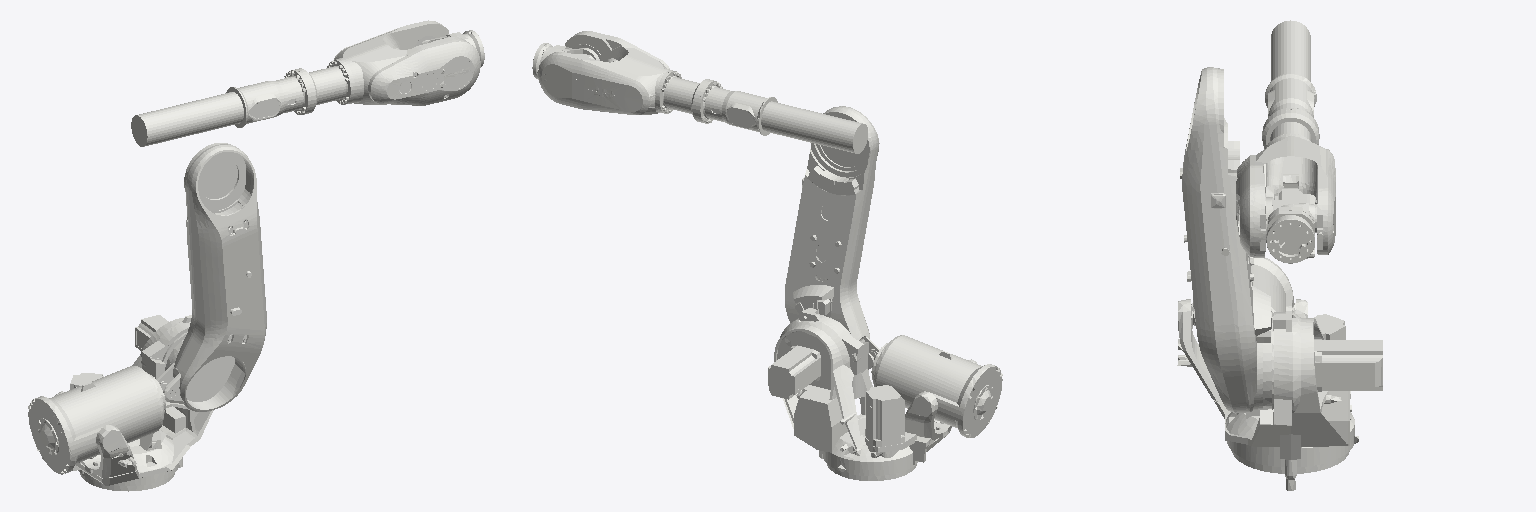
URDF robot description (abb_irb6700_245_300):
<?xml version="1.0" ?>
<!-- =================================================================================== -->
<!-- |    This document was autogenerated by xacro from irb6700_245_300.xacro          | -->
<!-- |    EDITING THIS FILE BY HAND IS NOT RECOMMENDED                                 | -->
<!-- =================================================================================== -->
<robot name="abb_irb6700_245_300">
  <transform tf_rb_ub="0.0 0.0 0.0 0.0 0.0 0.0 1.0" tf_rf_uf="0.0 0.0 0.0 0.0 0.0 0.0 1.0">
  </transform>
  <constraint coeff="0.0 0.0 0.0 1.0 0.0 0.0" lower_bound="0.0" upper_bound="0.0"/>
  <constraint coeff="0.0 1.0 1.0 0.0 1.0 0.0" lower_bound="1.5707963267948966" upper_bound="1.5707963267948966"/>
  <!-- Conversion were obtained from http://www.e-paint.co.uk/Lab_values.asp
       unless otherwise stated. -->
  <!-- link list -->
  <link name="base_link">
    <visual>
      <origin rpy="0 0 0" xyz="0 0 0"/>
      <geometry>
        <mesh filename="package://abb_irb6700_support/meshes/irb6700_245_300/visual/base_link.stl"/>
      </geometry>
      <material name="">
        <color rgba="0.9254902 0.9254902 0.9058824 1"/>
      </material>
    </visual>
    <collision>
      <origin rpy="0 0 0" xyz="0 0 0"/>
      <geometry>
        <mesh filename="package://abb_irb6700_support/meshes/irb6700_245_300/collision/base_link.stl"/>
      </geometry>
      <material name="">
        <color rgba="1 1 0 1"/>
      </material>
    </collision>
  </link>
  <link name="link_1">
    <visual>
      <origin rpy="0 0 0" xyz="0 0 -0.78"/>
      <geometry>
        <mesh filename="package://abb_irb6700_support/meshes/irb6700_245_300/visual/link_1.stl"/>
      </geometry>
      <material name="">
        <color rgba="0.9254902 0.9254902 0.9058824 1"/>
      </material>
    </visual>
    <collision>
      <origin rpy="0 0 0" xyz="0 0 -0.78"/>
      <geometry>
        <mesh filename="package://abb_irb6700_support/meshes/irb6700_245_300/collision/link_1.stl"/>
      </geometry>
      <material name="">
        <color rgba="1 1 0 1"/>
      </material>
    </collision>
  </link>
  <link name="link_2">
    <visual>
      <origin rpy="0 0 0" xyz="-0.35 0 -0.78"/>
      <geometry>
        <mesh filename="package://abb_irb6700_support/meshes/irb6700_245_300/visual/link_2.stl"/>
      </geometry>
      <material name="">
        <color rgba="0.9254902 0.9254902 0.9058824 1"/>
      </material>
    </visual>
    <collision>
      <origin rpy="0 0 0" xyz="-0.35 0 -0.78"/>
      <geometry>
        <mesh filename="package://abb_irb6700_support/meshes/irb6700_245_300/collision/link_2.stl"/>
      </geometry>
      <material name="">
        <color rgba="1 1 0 1"/>
      </material>
    </collision>
  </link>
  <link name="link_3">
    <visual>
      <origin rpy="0 0 0" xyz="-0.35 0 -1.925"/>
      <geometry>
        <mesh filename="package://abb_irb6700_support/meshes/irb6700_245_300/visual/link_3.stl"/>
      </geometry>
      <material name="">
        <color rgba="0.9254902 0.9254902 0.9058824 1"/>
      </material>
    </visual>
    <collision>
      <origin rpy="0 0 0" xyz="-0.35 0 -1.925"/>
      <geometry>
        <mesh filename="package://abb_irb6700_support/meshes/irb6700_245_300/collision/link_3.stl"/>
      </geometry>
      <material name="">
        <color rgba="1 1 0 1"/>
      </material>
    </collision>
  </link>
  <link name="link_4">
    <visual>
      <origin rpy="0 0 0" xyz="-0.35 0 -2.125"/>
      <geometry>
        <mesh filename="package://abb_irb6700_support/meshes/irb6700_245_300/visual/link_4.stl"/>
      </geometry>
      <material name="">
        <color rgba="0.9254902 0.9254902 0.9058824 1"/>
      </material>
    </visual>
    <collision>
      <origin rpy="0 0 0" xyz="-0.35 0 -2.125"/>
      <geometry>
        <mesh filename="package://abb_irb6700_support/meshes/irb6700_245_300/collision/link_4.stl"/>
      </geometry>
      <material name="">
        <color rgba="1 1 0 1"/>
      </material>
    </collision>
  </link>
  <link name="link_5">
    <visual>
      <origin rpy="0 0 0" xyz="-1.8125 0 -2.125"/>
      <geometry>
        <mesh filename="package://abb_irb6700_support/meshes/irb6700_245_300/visual/link_5.stl"/>
      </geometry>
      <material name="">
        <color rgba="0.9254902 0.9254902 0.9058824 1"/>
      </material>
    </visual>
    <collision>
      <origin rpy="0 0 0" xyz="-1.8125 0 -2.125"/>
      <geometry>
        <mesh filename="package://abb_irb6700_support/meshes/irb6700_245_300/collision/link_5.stl"/>
      </geometry>
      <material name="">
        <color rgba="1 1 0 1"/>
      </material>
    </collision>
  </link>
  <link name="link_6">
    <visual>
      <origin rpy="3.141592653589793 -1.5707963267948966 0" xyz="-2.125 0 -2.0325"/>
      <geometry>
        <mesh filename="package://abb_irb6700_support/meshes/irb6700_245_300/visual/link_6.stl"/>
      </geometry>
      <material name="">
        <color rgba="0.9254902 0.9254902 0.9058824 1"/>
      </material>
    </visual>
    <collision>
      <origin rpy="3.141592653589793 -1.5707963267948966 0" xyz="-2.125 0 -2.0325"/>
      <geometry>
        <mesh filename="package://abb_irb6700_support/meshes/irb6700_245_300/collision/link_6.stl"/>
      </geometry>
      <material name="">
        <color rgba="1 1 0 1"/>
      </material>
    </collision>
  </link>
  <joint name="joint1" type="revolute">
    <origin rpy="0 0 0" xyz="0 0 0.78"/>
    <parent link="base_link"/>
    <child link="link_1"/>
    <axis xyz="0 0 1"/>
    <limit effort="0" lower="-2.9670597283903604" upper="2.9670597283903604" velocity="1.7453292519943295"/>
  </joint>
  <joint name="joint2" type="revolute">
    <origin rpy="0 0 0" xyz="0.35 0 0"/>
    <parent link="link_1"/>
    <child link="link_2"/>
    <axis xyz="0 1 0"/>
    <limit effort="0" lower="-1.1344640137963142" upper="1.4835298641951802" velocity="1.53588974175501"/>
  </joint>
  <joint name="joint3" type="revolute">
    <origin rpy="0 0 0" xyz="0 0 1.145"/>
    <parent link="link_2"/>
    <child link="link_3"/>
    <axis xyz="0 1 0"/>
    <limit effort="0" lower="-3.141592653589793" upper="1.2042771838760873" velocity="1.5707963267948966"/>
  </joint>
  <joint name="joint4" type="revolute">
    <origin rpy="0 0 0" xyz="0 0 0.2"/>
    <parent link="link_3"/>
    <child link="link_4"/>
    <axis xyz="1 0 0"/>
    <limit effort="0" lower="-5.235987755982989" upper="5.235987755982989" velocity="2.443460952792061"/>
  </joint>
  <joint name="joint5" type="revolute">
    <origin rpy="0 0 0" xyz="1.4625 0 0"/>
    <parent link="link_4"/>
    <child link="link_5"/>
    <axis xyz="0 1 0"/>
    <limit effort="0" lower="-2.2689280275926285" upper="2.2689280275926285" velocity="1.9198621771937625"/>
  </joint>
  <joint name="joint6" type="revolute">
    <origin rpy="0 1.5707963267948966 0" xyz="0.22 0 0"/>
    <parent link="link_5"/>
    <child link="link_6"/>
    <axis xyz="0 0 1"/>
    <limit effort="0" lower="-6.283185307179586" upper="6.283185307179586" velocity="3.141592653589793"/>
  </joint>
</robot>

--- Render facts (derived) ---
The picture shows the robot from 3 angles, left to right: view 1: azimuth 30°, elevation 25°; view 2: azimuth 150°, elevation 25°; view 3: azimuth 270°, elevation 25°; orthographic projection.
Robot: abb_irb6700_245_300 — 7 links, 6 joints (6 revolute); root link base_link; default pose: all joints at 0.
Visible links, largest first — view 1: link_2, link_1, link_4; view 2: link_1, link_4, link_2; view 3: link_1, link_2, link_4, link_6, link_5.
Link boxes in pixels (x1,y1,x2,y2): link_2: (157,143,266,411); link_1: (28,315,213,491); link_4: (131,20,480,146); link_1: (768,308,1002,480); link_4: (537,31,867,153); link_2: (785,106,879,369); link_1: (1177,257,1382,490); link_2: (1180,67,1271,413); link_4: (1236,20,1335,257); link_6: (1266,217,1314,263); link_5: (1266,189,1314,263).
Size in the robot's own frame: 2.64 by 0.8389 by 2.09 metres.
5 mesh visuals loaded from 7 distinct referenced files (5 binary STL); not drawn: 2 (reference not matched to a file when rendering).